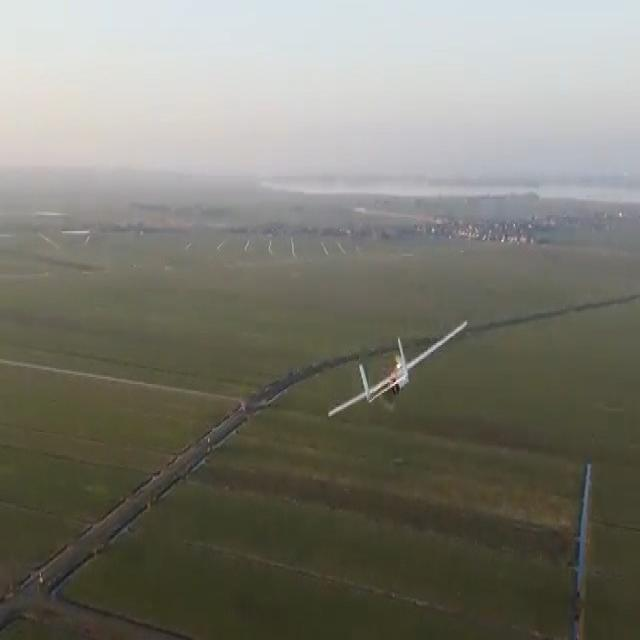drones: (324, 301, 474, 450)
